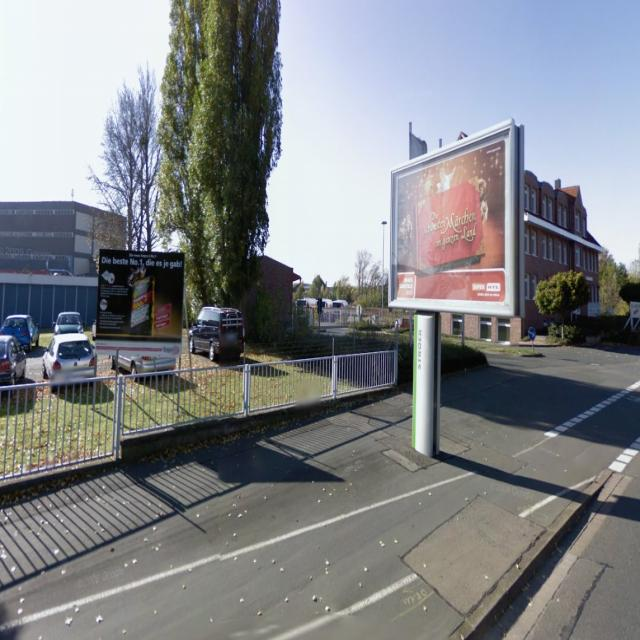Werbetafel frei: (386, 121, 517, 316), (92, 246, 186, 364)
